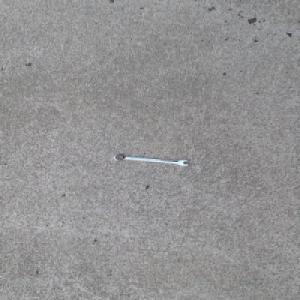Wrench: (112, 153, 189, 167)
